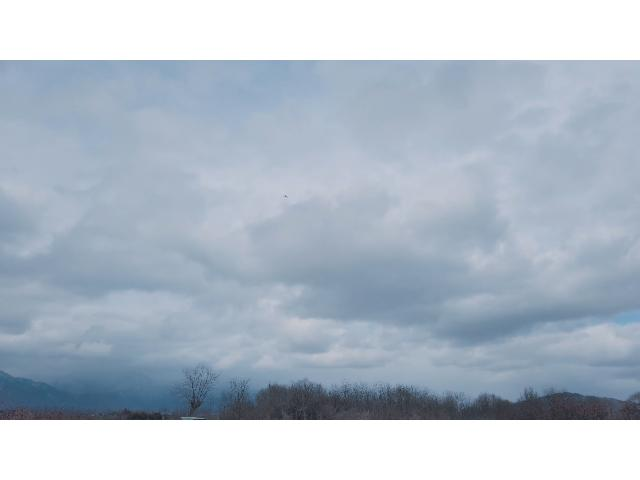Anti-Drone: (278, 190, 290, 200)
